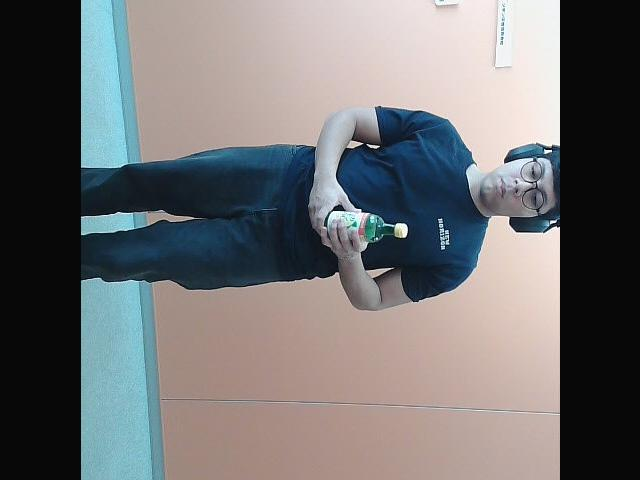Lemon_sapporo: (318, 209, 412, 245)
